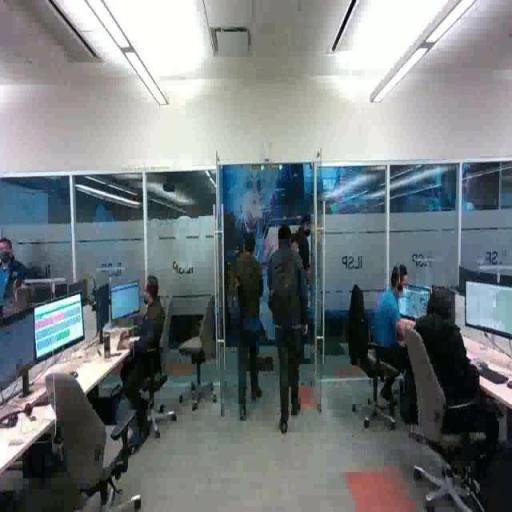person: (268, 226, 310, 435), (235, 234, 268, 419)
